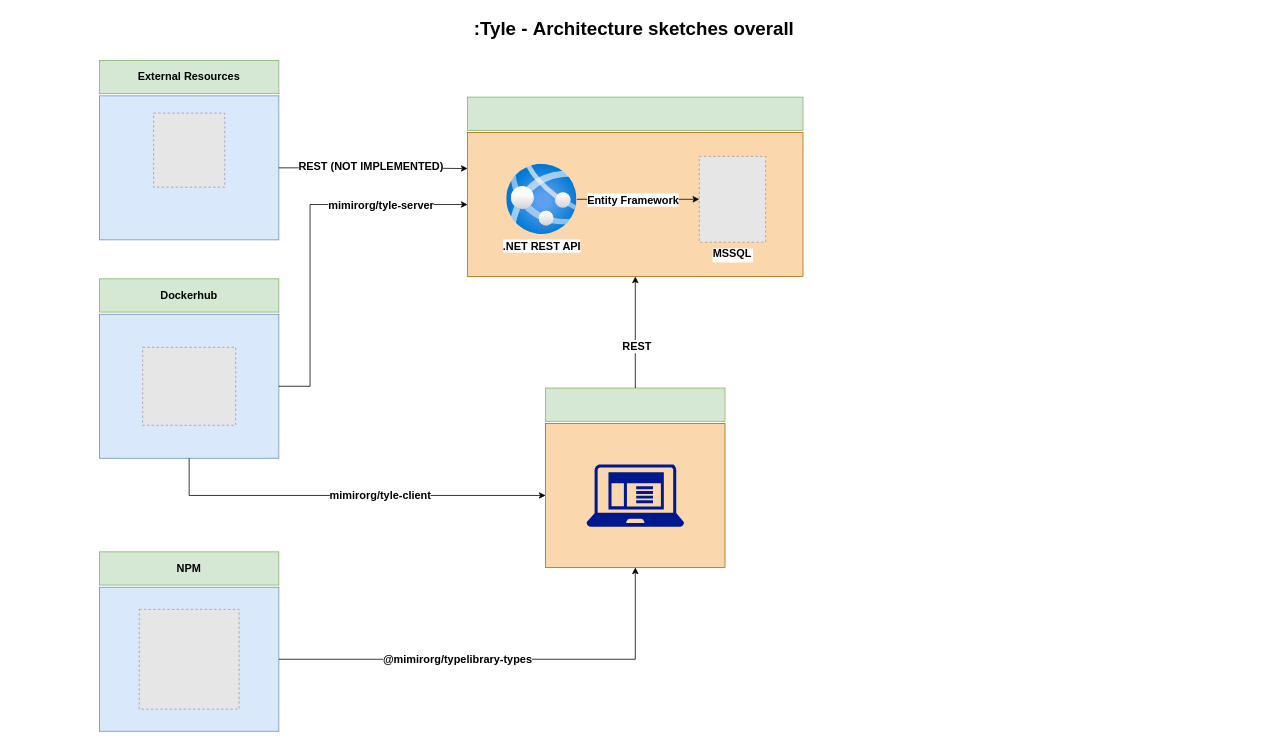
The diagram is 1267 pixels wide and 745 high, and some of its shapes have lost their labels. Grey dashed boxes stand in for pictures. The shapes that lost their labels are listed below. From the top down, each one's centre as x and y in pixels, then its label:
At (x=635, y=113): "Backend Application".
At (x=635, y=404): "Frontend Application".
At (x=635, y=495): "React".
